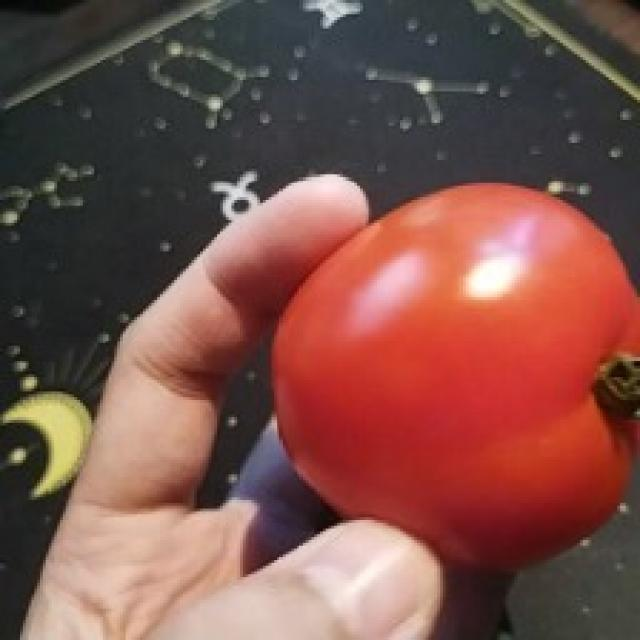Fresh Tomato: (255, 174, 640, 590)
